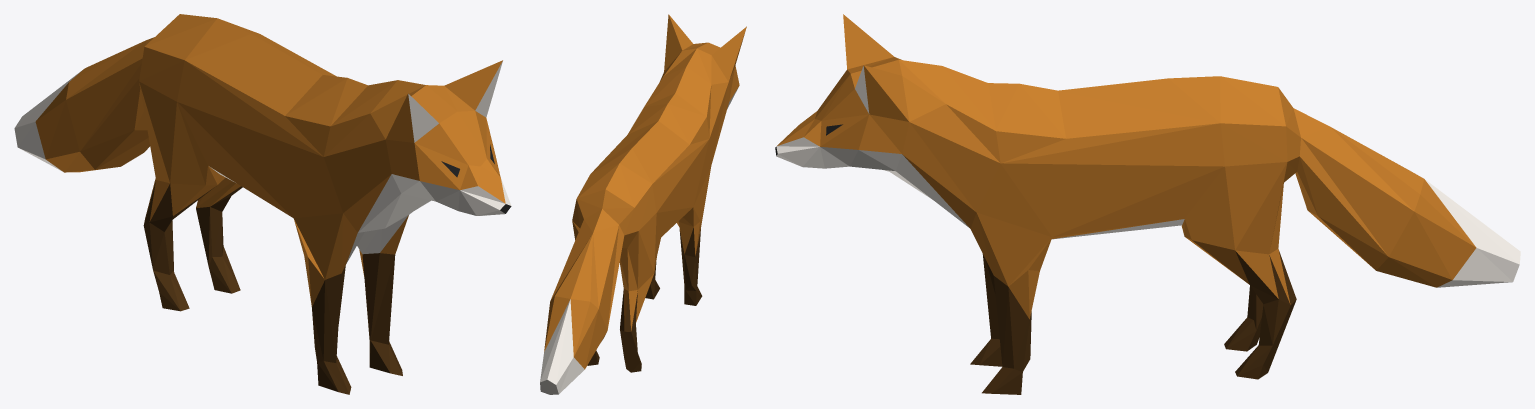
File: fox.fbx
The picture shows the model from 3 angles, left to right: view 1: azimuth 30°, elevation 25°; view 2: azimuth 150°, elevation 25°; view 3: azimuth 270°, elevation 25°; orthographic projection. The views are drawn at different scales.
Parts seen in each view (by area): view 1: Cube_001; view 2: Cube_001; view 3: Cube_001.
Boxes of the visible parts, x1=… form: Cube_001: x1=14, y1=14, x2=511, y2=394; Cube_001: x1=540, y1=14, x2=746, y2=394; Cube_001: x1=775, y1=14, x2=1520, y2=394.
Size of the model in its own units: 135 by 272 by 525.
